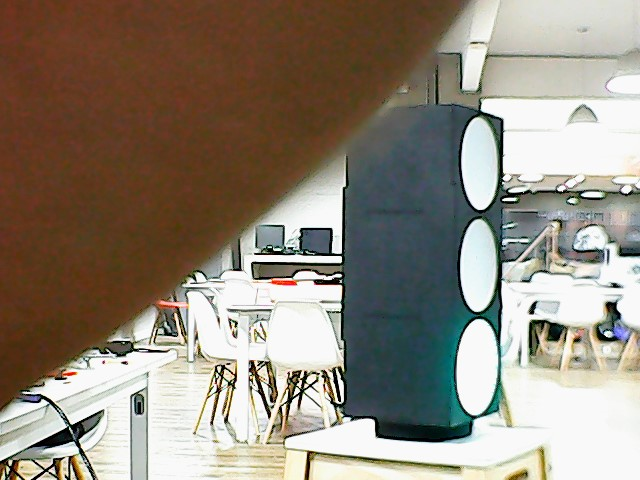verde: (339, 107, 509, 423)
